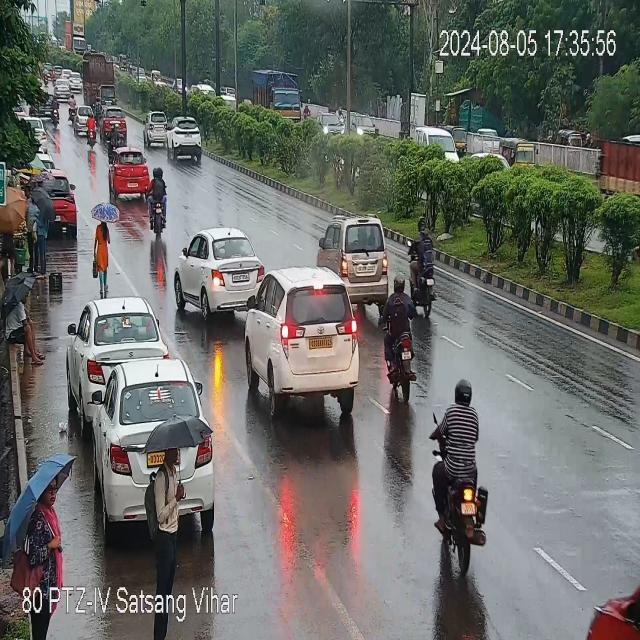2-wheelers: (436, 372, 490, 567), (379, 279, 421, 405), (405, 220, 446, 320), (144, 170, 176, 238), (104, 116, 124, 148), (86, 115, 100, 149), (50, 97, 60, 129), (68, 95, 76, 122)
auto: (499, 136, 538, 166)
car: (241, 264, 369, 419), (90, 363, 214, 514), (68, 295, 160, 394), (170, 229, 258, 318), (318, 210, 395, 303), (585, 567, 639, 640), (30, 169, 80, 232), (111, 150, 152, 200), (167, 125, 204, 162), (143, 109, 170, 148), (99, 106, 129, 141), (32, 120, 50, 152), (320, 113, 344, 137), (352, 112, 373, 135), (170, 116, 204, 130), (73, 106, 86, 136)
pedestrian: (148, 420, 186, 592), (31, 483, 72, 579), (2, 287, 47, 370), (26, 184, 52, 272), (0, 190, 17, 281), (94, 220, 111, 293)
truck: (247, 68, 300, 128), (596, 138, 636, 200), (82, 48, 114, 103)
